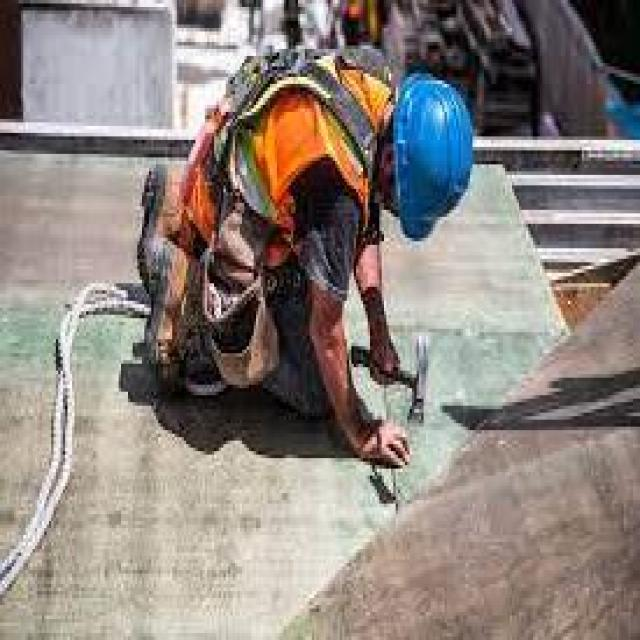Reflective-Jacket: (207, 42, 396, 255)
Safety-Helmet: (384, 66, 484, 248)
